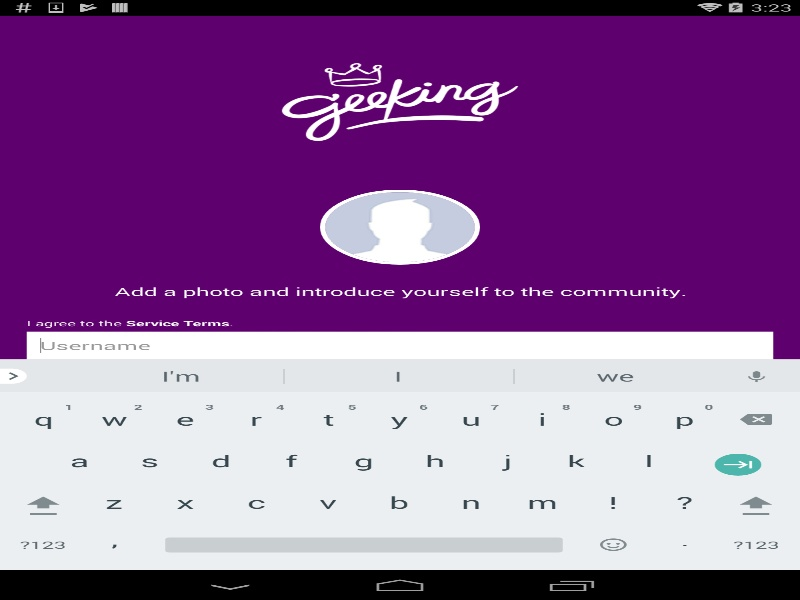Button: (26, 427, 773, 457)
Input: (26, 331, 773, 359), (26, 362, 773, 390), (26, 393, 773, 421)
